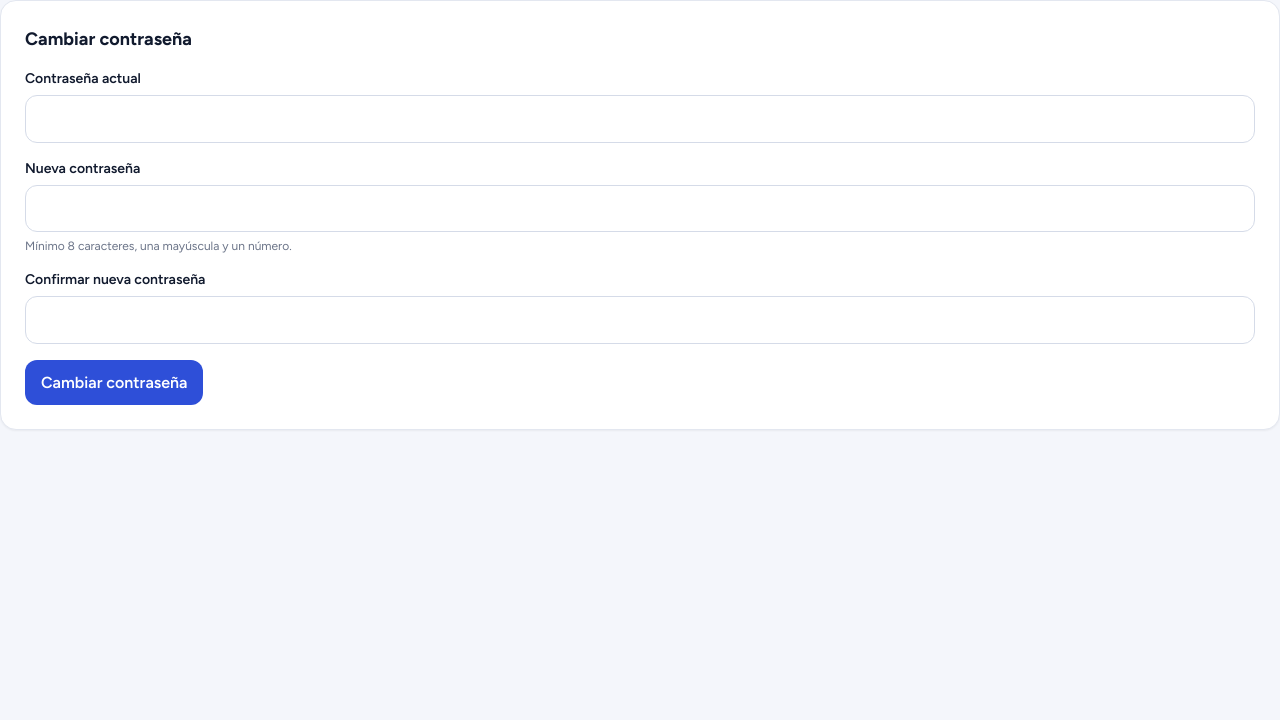
Test: FormCambioPassword › muestra un error genérico ante otros fallos
In the password field labelled "Contraseña actual": (640,119) [25,95,1255,143], type "Actual123"
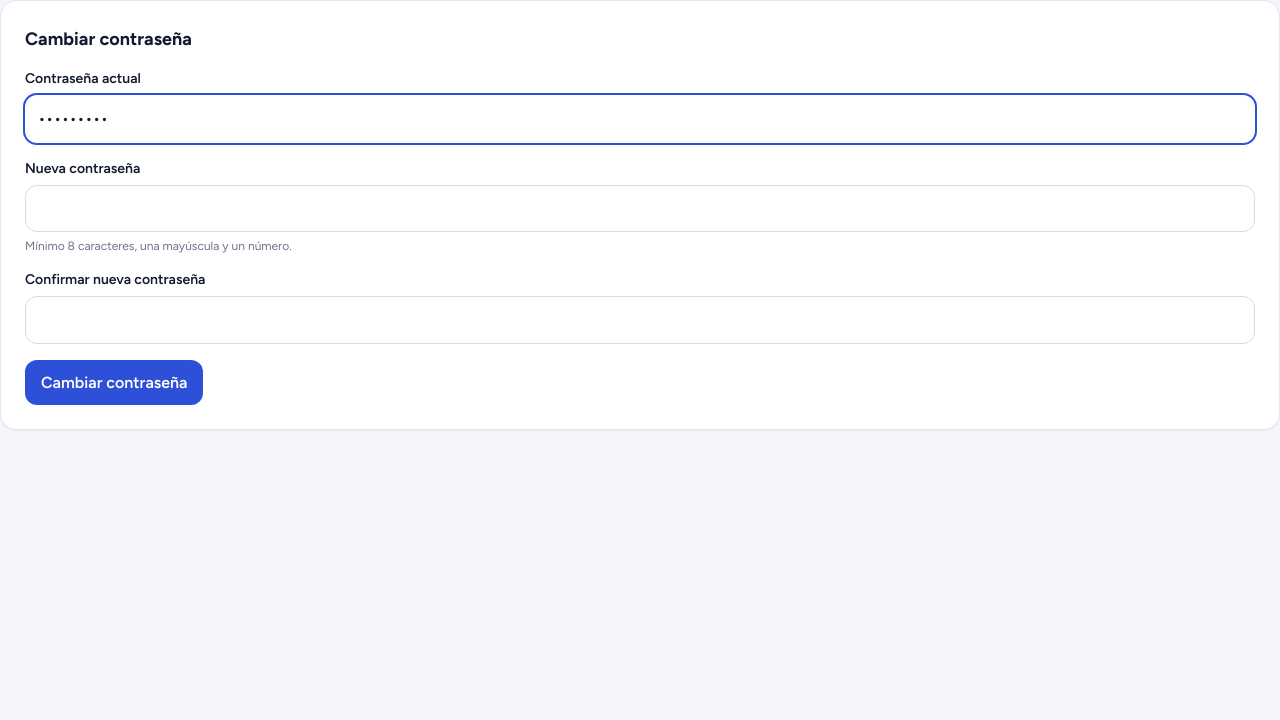
In the password field labelled "Nueva contraseña": (640,208) [25,185,1255,232], type "Nueva4567"
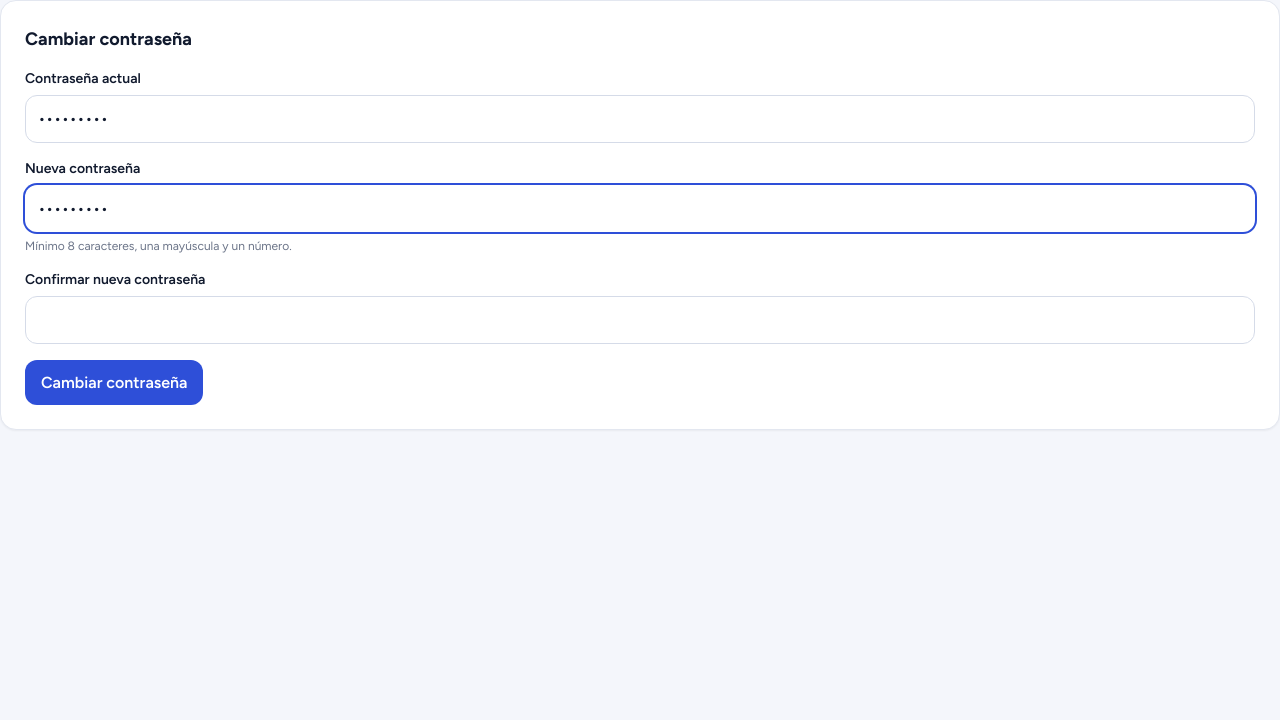
In the password field labelled "Confirmar nueva contraseña": (640,320) [25,296,1255,344], type "Nueva4567"
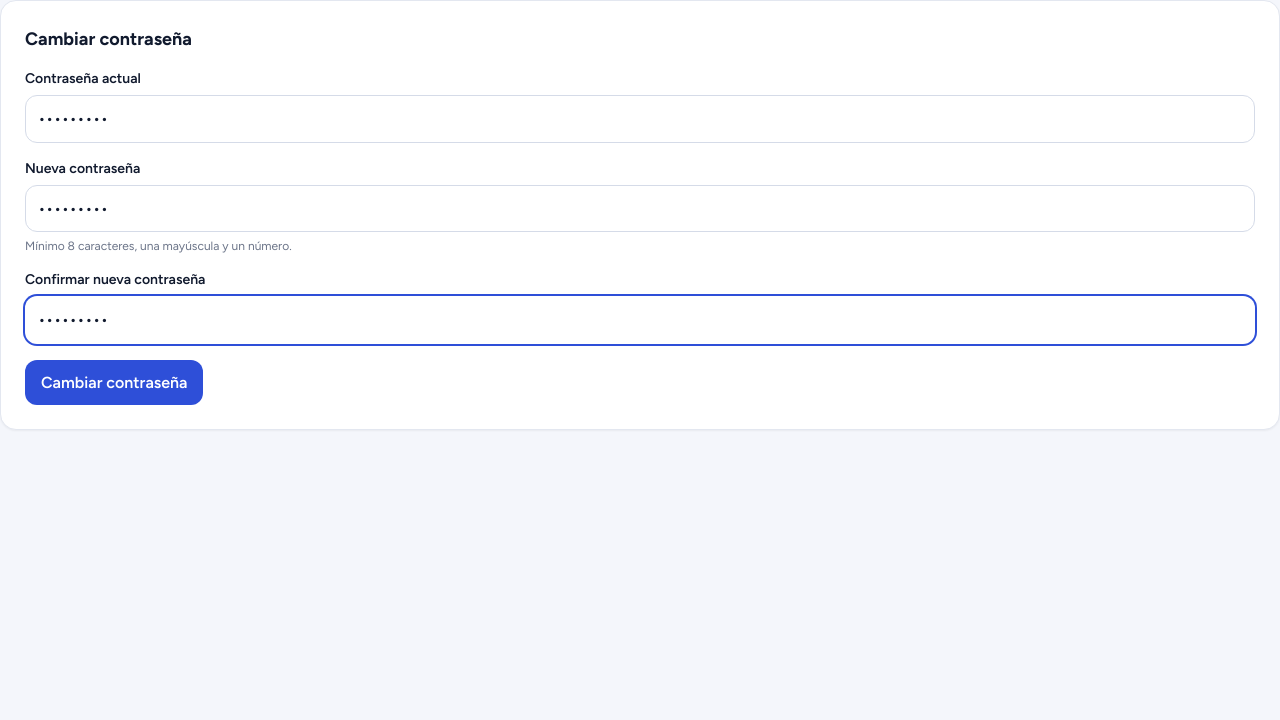
Click the button "Cambiar contraseña": (114,383) [25,360,204,405]
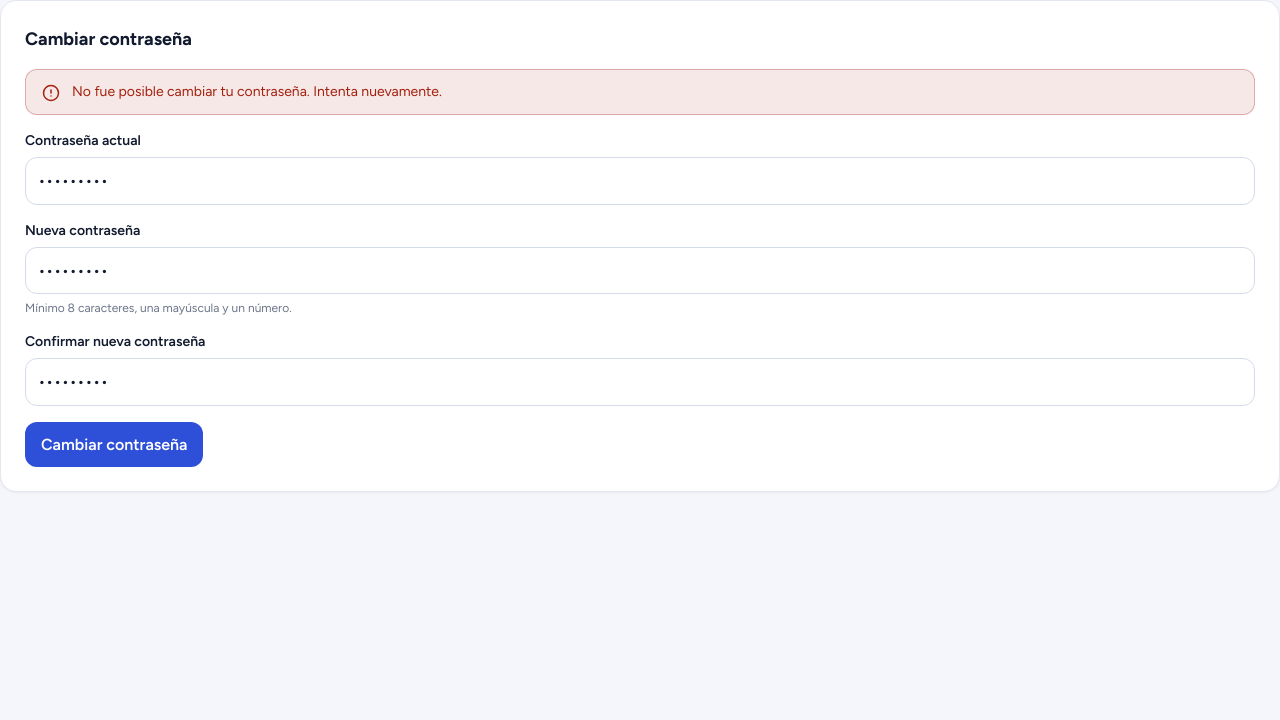
Expected: the message shows "No fue posible cambiar tu contraseña.", [72,83,442,100]
